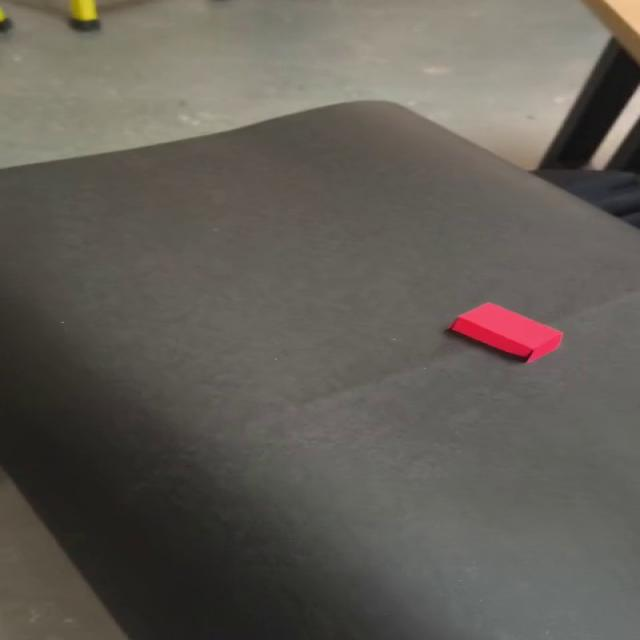red block: (447, 301, 562, 363)
